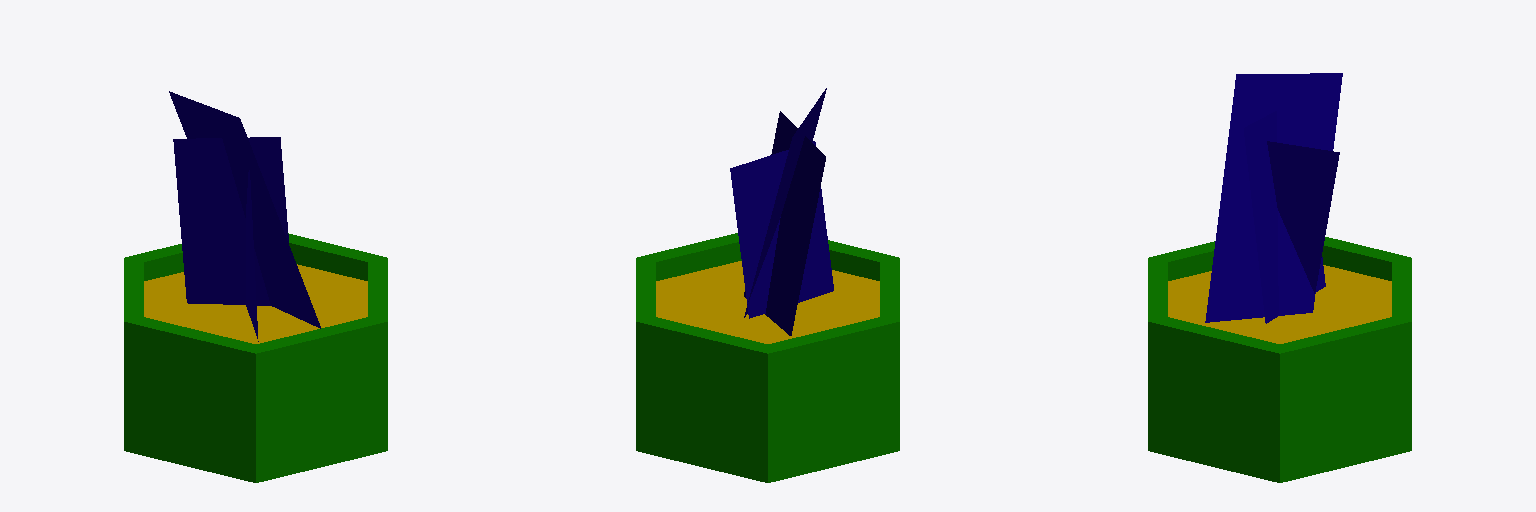
Rendered from Blumenkuebel.obj.
3 views of the same model, side by side, from view 1: azimuth 30°, elevation 25°; view 2: azimuth 150°, elevation 25°; view 3: azimuth 270°, elevation 25° (orthographic).
Visible parts, largest first — view 1: Blumenkuebel1; view 2: Blumenkuebel1; view 3: Blumenkuebel1.
Boxes of the visible parts, <box> form: Blumenkuebel1: <box>124,91,387,482</box>; Blumenkuebel1: <box>636,88,899,482</box>; Blumenkuebel1: <box>1148,73,1411,482</box>.
Bounding box in the file's own units: 134 × 159 × 116.